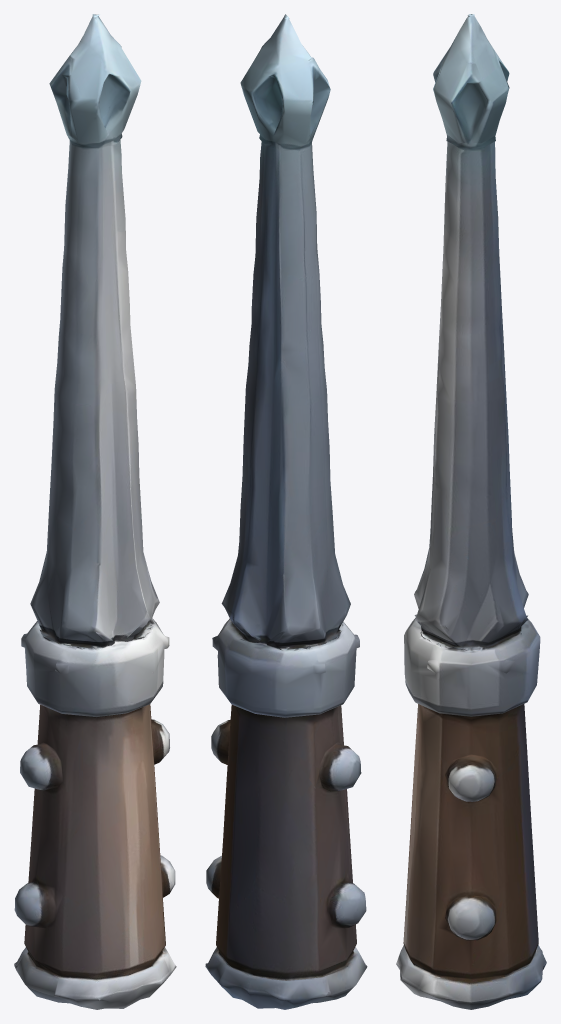
File: w_cleaver--wand.glb
3 renders of one model, left to right at view 1: azimuth 30°, elevation 25°; view 2: azimuth 150°, elevation 25°; view 3: azimuth 270°, elevation 25°, orthographic.
Visible parts, largest first — view 1: Weapon; view 2: Weapon; view 3: Weapon.
Boxes of the visible parts, x1,y1,x2,y2 form: Weapon: [14, 14, 176, 1009]; Weapon: [205, 14, 367, 1009]; Weapon: [396, 14, 546, 1009].
Size of the model in its own units: 0.1589 by 0.9772 by 0.1354.
1 material, 1 textured.
